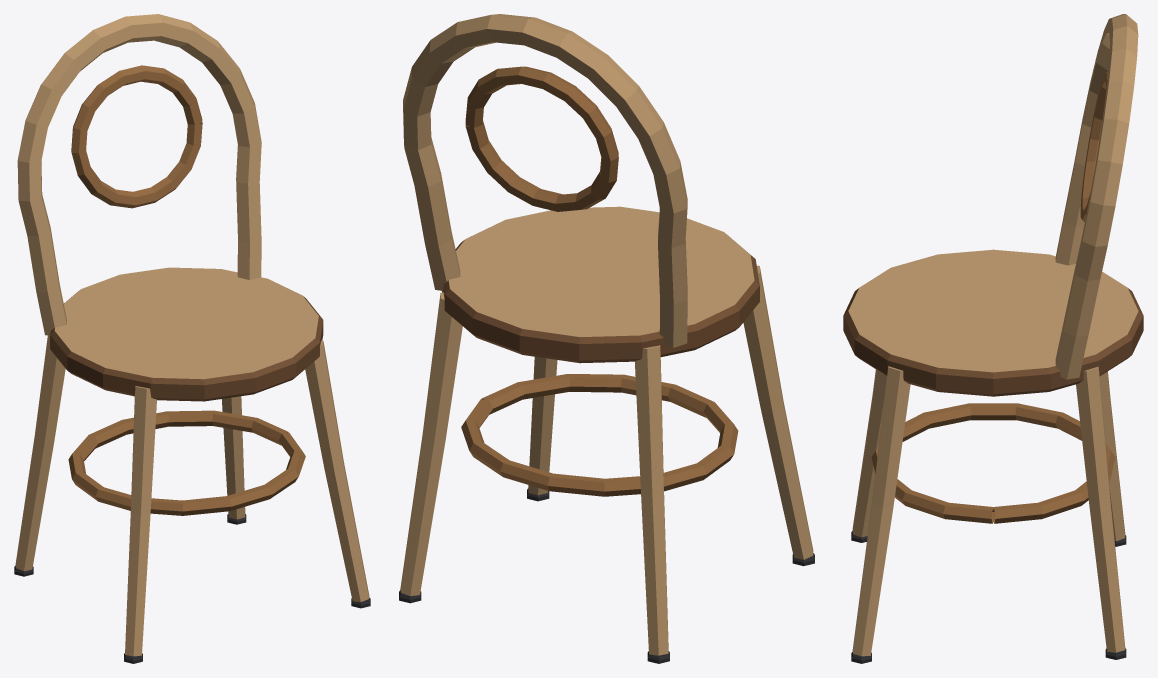
Rendered from FN_Chair_Cafe.glb.
3 renders of one model, left to right at view 1: azimuth 30°, elevation 25°; view 2: azimuth 150°, elevation 25°; view 3: azimuth 270°, elevation 25°, orthographic. The views are drawn at different scales.
Visible parts, largest first — view 1: FN_Chair_Cafe; view 2: FN_Chair_Cafe; view 3: FN_Chair_Cafe.
Part boxes in pixels (left/top/right/bottom): FN_Chair_Cafe: left=14, top=14, right=370, bottom=663; FN_Chair_Cafe: left=399, top=14, right=814, bottom=663; FN_Chair_Cafe: left=843, top=14, right=1143, bottom=663.
Bounding box in the file's own units: 0.44 × 0.8966 × 0.426.
Materials: 1 (1 with a texture image).
